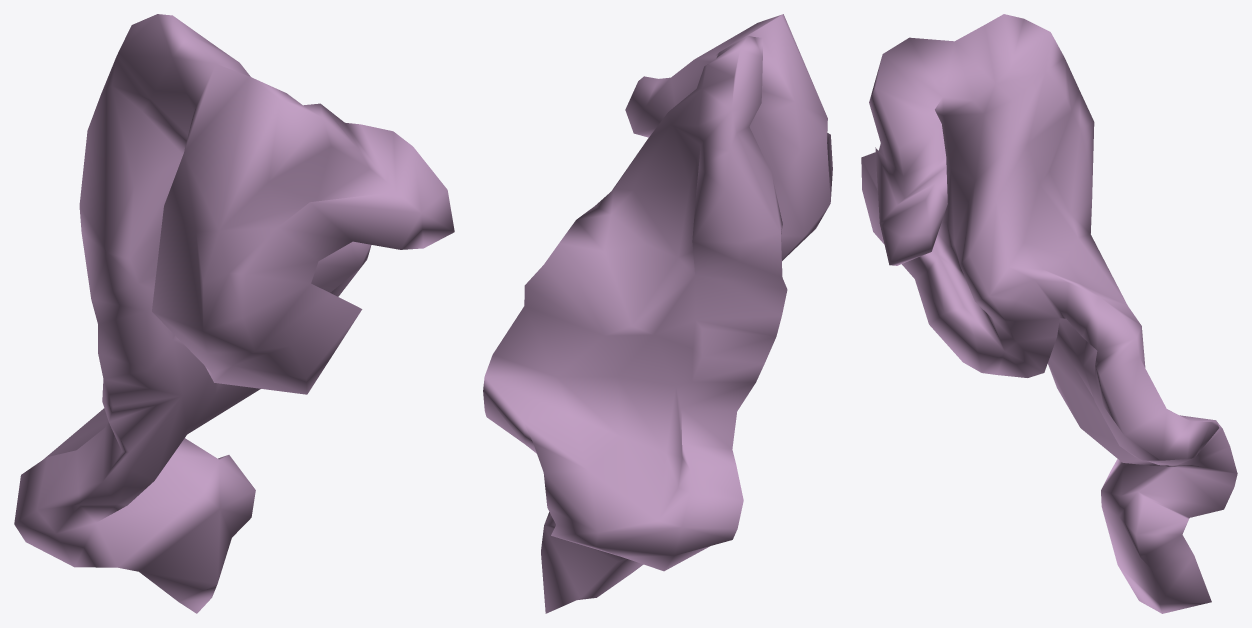
3 renders of one model, left to right at view 1: azimuth 30°, elevation 25°; view 2: azimuth 150°, elevation 25°; view 3: azimuth 270°, elevation 25°, orthographic. The views are drawn at different scales.
Visible parts, largest first — view 1: 右侧颞平面; view 2: 右侧颞平面; view 3: 右侧颞平面.
Boxes of the visible parts, box(x1,y1,x2,y2) form: 右侧颞平面: box(14, 14, 454, 613); 右侧颞平面: box(483, 14, 832, 613); 右侧颞平面: box(861, 14, 1237, 613).
Size of the model in its own units: 0.0303 by 0.0646 by 0.0403.
